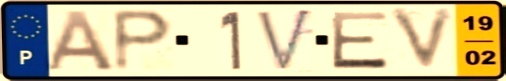1: (218, 9, 244, 72)
A: (42, 9, 119, 73)
E: (328, 10, 391, 71)
P: (110, 7, 177, 74)
V: (386, 6, 460, 75), (253, 7, 317, 75)
